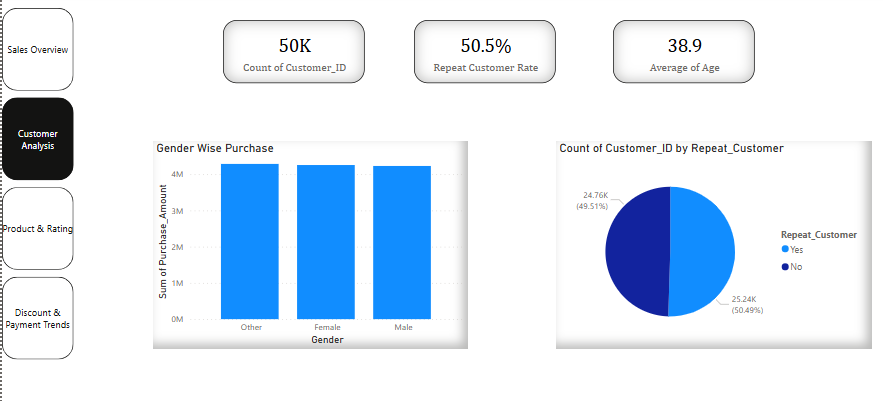

The page's visual inventory and layout, read from the dashboard file:
{"tool":"powerbi","page":{"name":"Customer Analysis","canvas":[1280,720],"ordinal":1},"visuals":[{"type":"card","fields":{"Values":["Count(data.Customer_ID)"]},"box":[318.2,36,204.5,90.7],"z":0},{"type":"card","fields":{"Values":["Measures (2).Repeat Customer Rate"]},"box":[593.3,36,204.5,90.7],"z":1000},{"type":"card","fields":{"Values":["Avg(data.Age)"]},"box":[879.8,36,204.5,90.7],"z":2000},{"type":"columnChart","title":"Gender Wise Purchase","fields":{"Category":["data.Gender"],"Y":["Sum(data.Purchase_Amount)"]},"box":[217.4,210.2,453.6,299.5],"z":3000},{"type":"pieChart","fields":{"Category":["data.Repeat_Customer"],"Y":["Count(data.Customer_ID)"]},"box":[797.8,210.2,455,299.5],"z":4000},{"type":"pageNavigator","box":[0,18.7,103.7,509.8],"z":5000}]}

Visuals, with their boxes on the page's 1280x720 design canvas (x1, y1, x2, y2). These are canvas units, not pixel positions in the 883x401 screenshot, which may show the page scaled, cropped or inside an application window:
card - Count(data.Customer_ID): 318:36:523:127
card - Measures (2).Repeat Customer Rate: 593:36:798:127
card - Avg(data.Age): 880:36:1084:127
"Gender Wise Purchase" columnChart: 217:210:671:510
pieChart - data.Repeat_Customer x Count(data.Customer_ID): 798:210:1253:510
pageNavigator: 0:19:104:528
